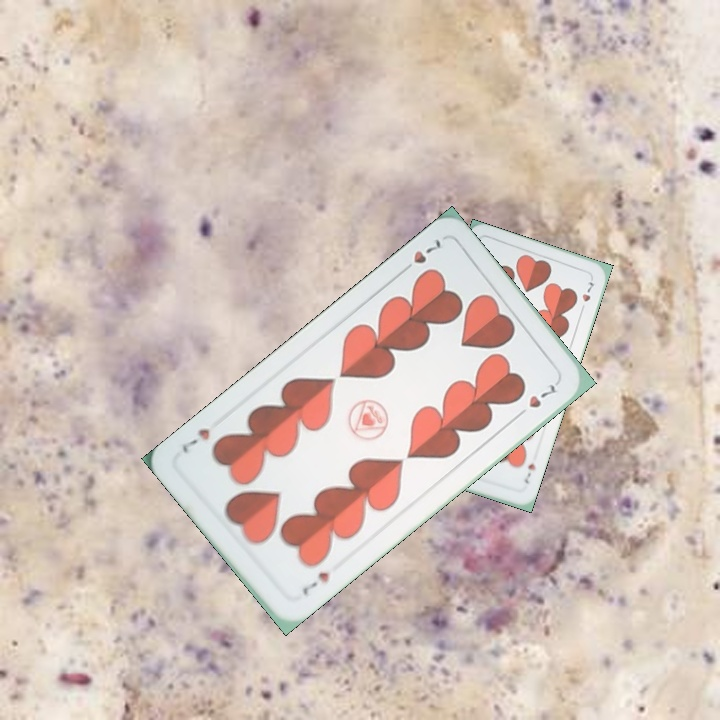H7: (396, 234, 446, 276), (298, 567, 332, 598), (520, 459, 538, 486)
